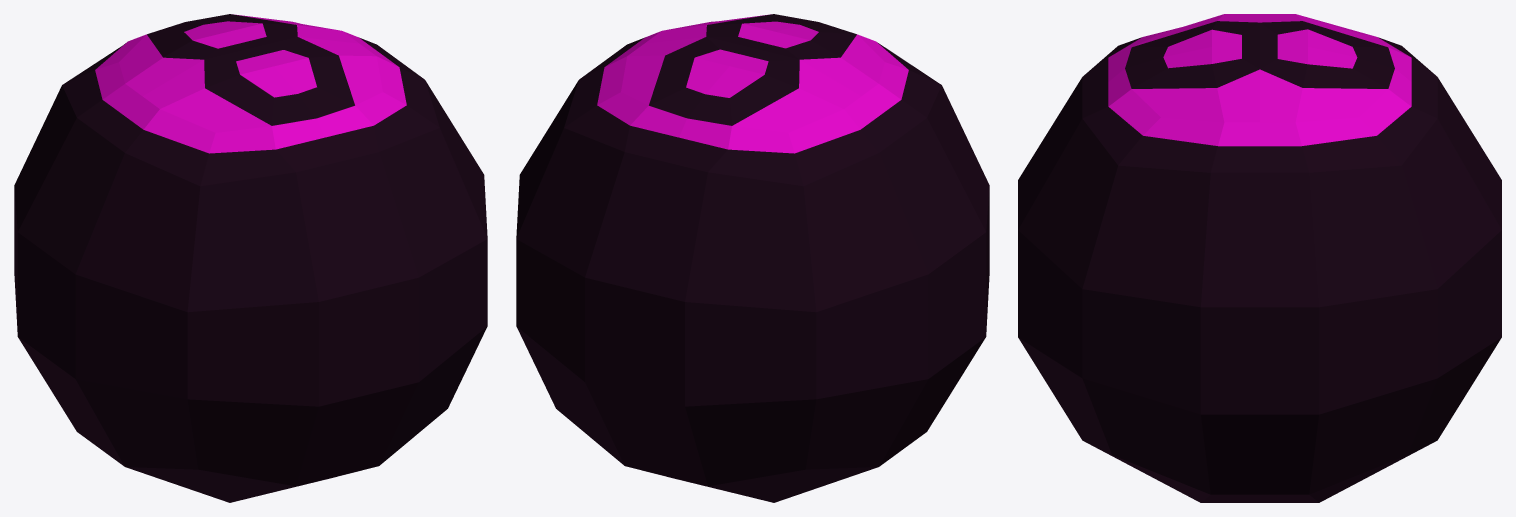
The model's file is PoolBall_01.fbx.
3 views of the same model, side by side, from view 1: azimuth 30°, elevation 25°; view 2: azimuth 150°, elevation 25°; view 3: azimuth 270°, elevation 25° (orthographic). The views are drawn at different scales.
Parts seen in each view (by area): view 1: PoolBall_01; view 2: PoolBall_01; view 3: PoolBall_01.
Boxes of the visible parts, bbox=[...] form: PoolBall_01: bbox=[14, 14, 487, 502]; PoolBall_01: bbox=[516, 14, 989, 502]; PoolBall_01: bbox=[1018, 14, 1501, 502].
Size of the model in its own units: 4.68 by 4.61 by 4.68.
